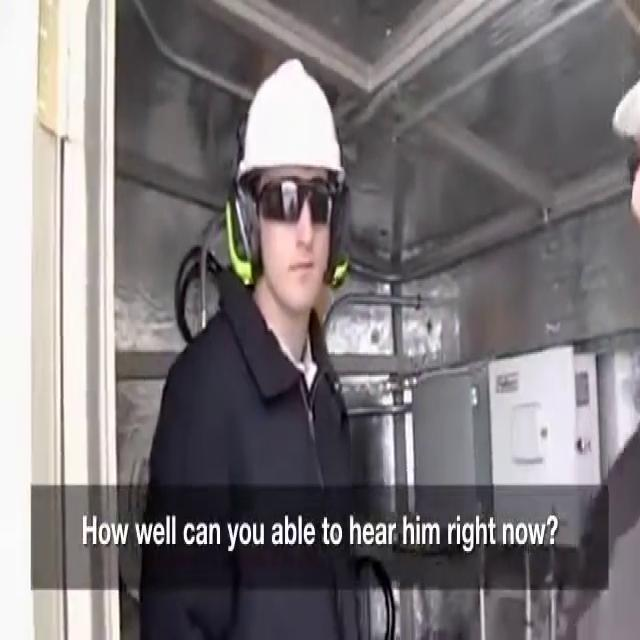earmuff: (222, 184, 264, 294), (323, 186, 354, 296)
glasses: (248, 170, 333, 234)
helmet: (232, 51, 347, 207)
